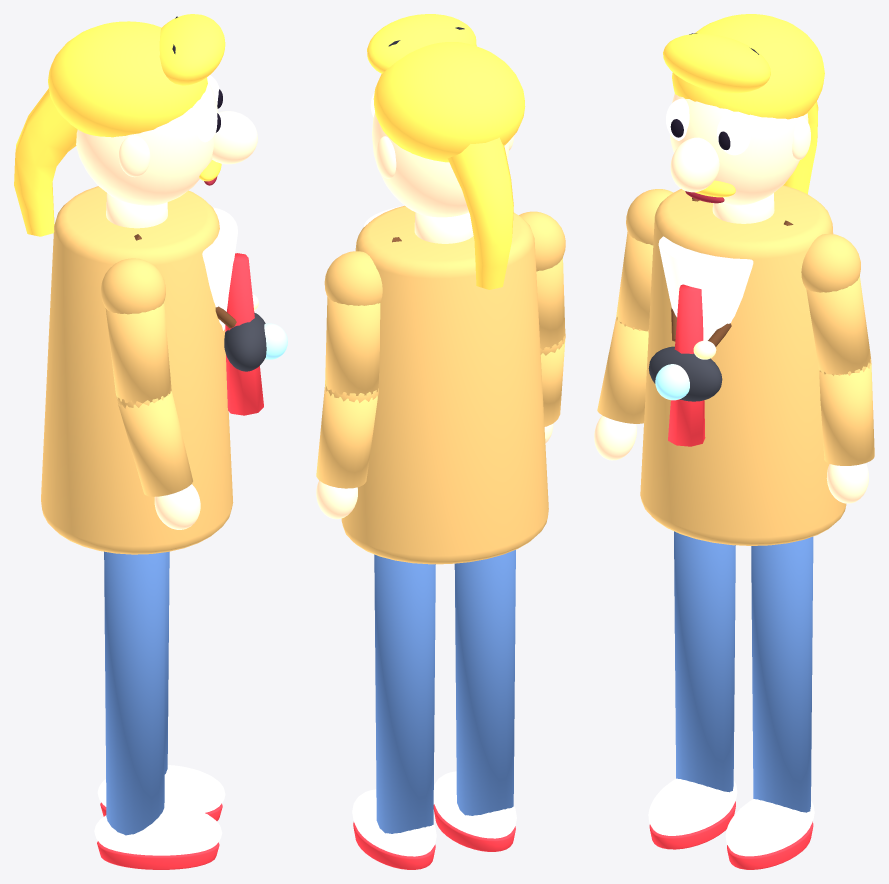
File: zak.glb
3 views of the same model, side by side, from view 1: azimuth 30°, elevation 25°; view 2: azimuth 150°, elevation 25°; view 3: azimuth 270°, elevation 25° (orthographic).
Parts seen in each view (by area): view 1: Zk_Jacke.001, Zk_BeinR.001, Zk_Haar.001, Zk_Kopf.001, Zk_Nacken.001, Zk_OAR.001, Zk_UAR.001, Zk_SchuhR.001, Zk_Tolle.001, Zk_Krawatte.001, Zk_ShKR.001, Zk_SchuhL.001 (+10 smaller); view 2: Zk_Jacke.001, Zk_BeinL.001, Zk_BeinR.001, Zk_Haar.001, Zk_Nacken.001, Zk_OAL.001, Zk_UAL.001, Zk_Kopf.001, Zk_Tolle.001, Zk_ShKL.001, Zk_SchuhL.001, Zk_SchuhR.001 (+8 smaller); view 3: Zk_Jacke.001, Zk_BeinL.001, Zk_BeinR.001, Zk_Haar.001, Zk_Kopf.001, Zk_Hemd.001, Zk_Tolle.001, Zk_UAL.001, Zk_OAL.001, Zk_UAR.001, Zk_SchuhL.001, Zk_SchuhR.001 (+16 smaller).
Boxes of the visible parts, left/top/right/bottom form: Zk_Jacke.001: left=41, top=186, right=233, bottom=554; Zk_BeinR.001: left=104, top=551, right=166, bottom=835; Zk_Haar.001: left=48, top=21, right=207, bottom=137; Zk_Kopf.001: left=76, top=80, right=218, bottom=205; Zk_Nacken.001: left=14, top=88, right=77, bottom=236; Zk_OAR.001: left=105, top=302, right=171, bottom=403; Zk_UAR.001: left=118, top=391, right=192, bottom=496; Zk_SchuhR.001: left=94, top=803, right=222, bottom=855; Zk_Tolle.001: left=159, top=14, right=225, bottom=85; Zk_Krawatte.001: left=225, top=253, right=263, bottom=415; Zk_ShKR.001: left=101, top=258, right=165, bottom=314; Zk_SchuhL.001: left=97, top=765, right=225, bottom=812; Zk_Jacke.001: left=341, top=205, right=548, bottom=564; Zk_BeinL.001: left=374, top=554, right=435, bottom=833; Zk_BeinR.001: left=454, top=550, right=515, bottom=815; Zk_Haar.001: left=373, top=42, right=525, bottom=162; Zk_Nacken.001: left=447, top=137, right=513, bottom=289; Zk_OAL.001: left=325, top=297, right=380, bottom=395; Zk_UAL.001: left=316, top=387, right=377, bottom=488; Zk_Kopf.001: left=372, top=112, right=509, bottom=217; Zk_Tolle.001: left=367, top=14, right=476, bottom=73; Zk_ShKL.001: left=324, top=251, right=382, bottom=305; Zk_SchuhL.001: left=352, top=789, right=436, bottom=856; Zk_SchuhR.001: left=433, top=771, right=516, bottom=838; Zk_Jacke.001: left=640, top=185, right=846, bottom=545; Zk_BeinL.001: left=751, top=536, right=813, bottom=812; Zk_BeinR.001: left=674, top=531, right=735, bottom=792; Zk_Haar.001: left=672, top=14, right=824, bottom=119; Zk_Kopf.001: left=670, top=93, right=808, bottom=205; Zk_Hemd.001: left=658, top=236, right=753, bottom=340; Zk_Tolle.001: left=663, top=33, right=770, bottom=93; Zk_UAL.001: left=819, top=363, right=874, bottom=465; Zk_OAL.001: left=806, top=276, right=870, bottom=374; Zk_UAR.001: left=597, top=318, right=648, bottom=423; Zk_SchuhL.001: left=725, top=799, right=814, bottom=856; Zk_SchuhR.001: left=648, top=778, right=737, bottom=835.
Bounding box in the file's own units: 0.5257 × 1.96 × 0.6154.
